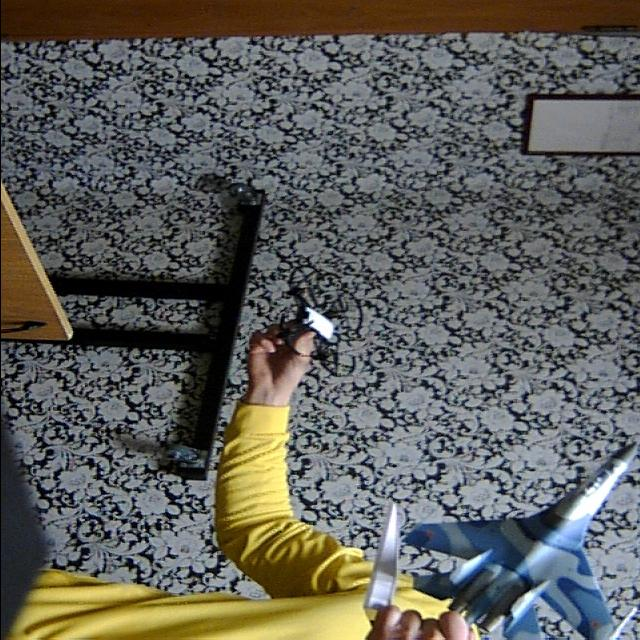drone: (268, 260, 374, 384)
